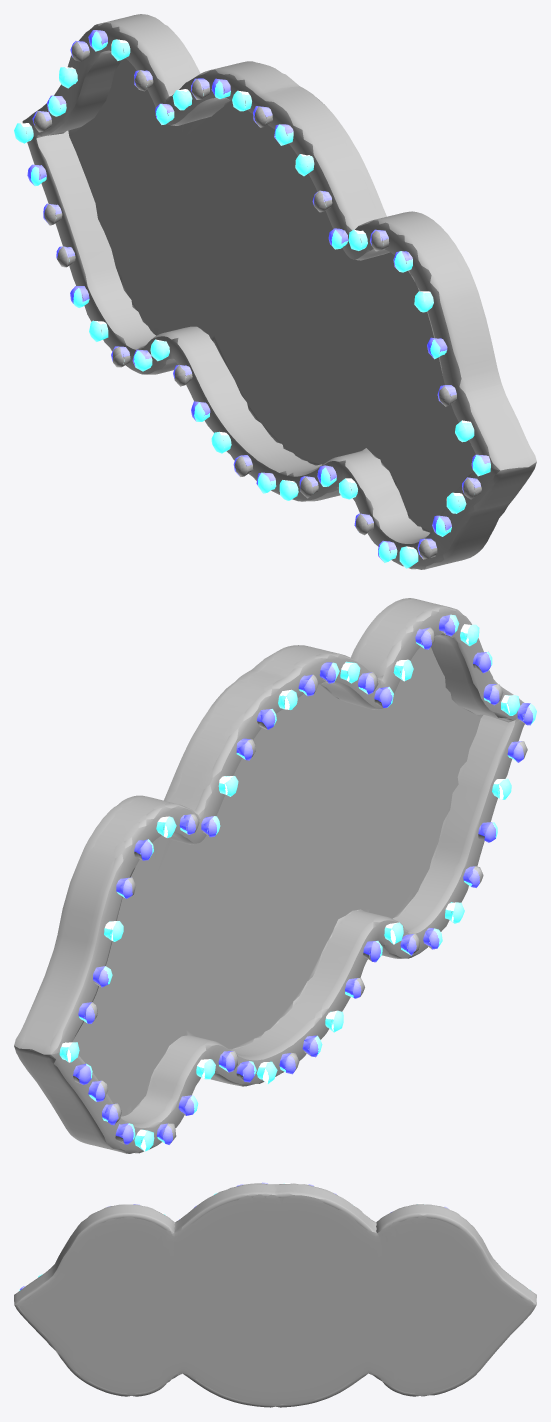
The model's file is SM_SignBoard_01e.fbx.
3 renders of one model, top to bottom at view 1: azimuth 30°, elevation 25°; view 2: azimuth 150°, elevation 25°; view 3: azimuth 270°, elevation 25°, orthographic. The views are drawn at different scales.
Parts seen in each view (by area): view 1: SM_SignBoard_01e_LOD0; view 2: SM_SignBoard_01e_LOD0; view 3: SM_SignBoard_01e_LOD0.
Part boxes in pixels (box(x1,y1,x2,y2)): SM_SignBoard_01e_LOD0: box(14, 14, 536, 569); SM_SignBoard_01e_LOD0: box(14, 598, 536, 1153); SM_SignBoard_01e_LOD0: box(14, 1182, 536, 1407).
Bounding box in the file's own units: 11.35 × 170 × 76.93.
